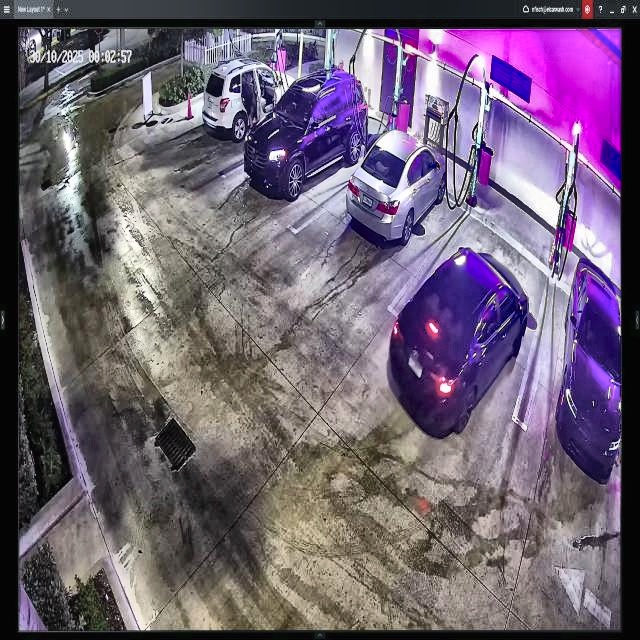Car: (391, 250, 531, 436), (245, 68, 366, 183), (349, 136, 449, 246), (207, 60, 298, 150)
